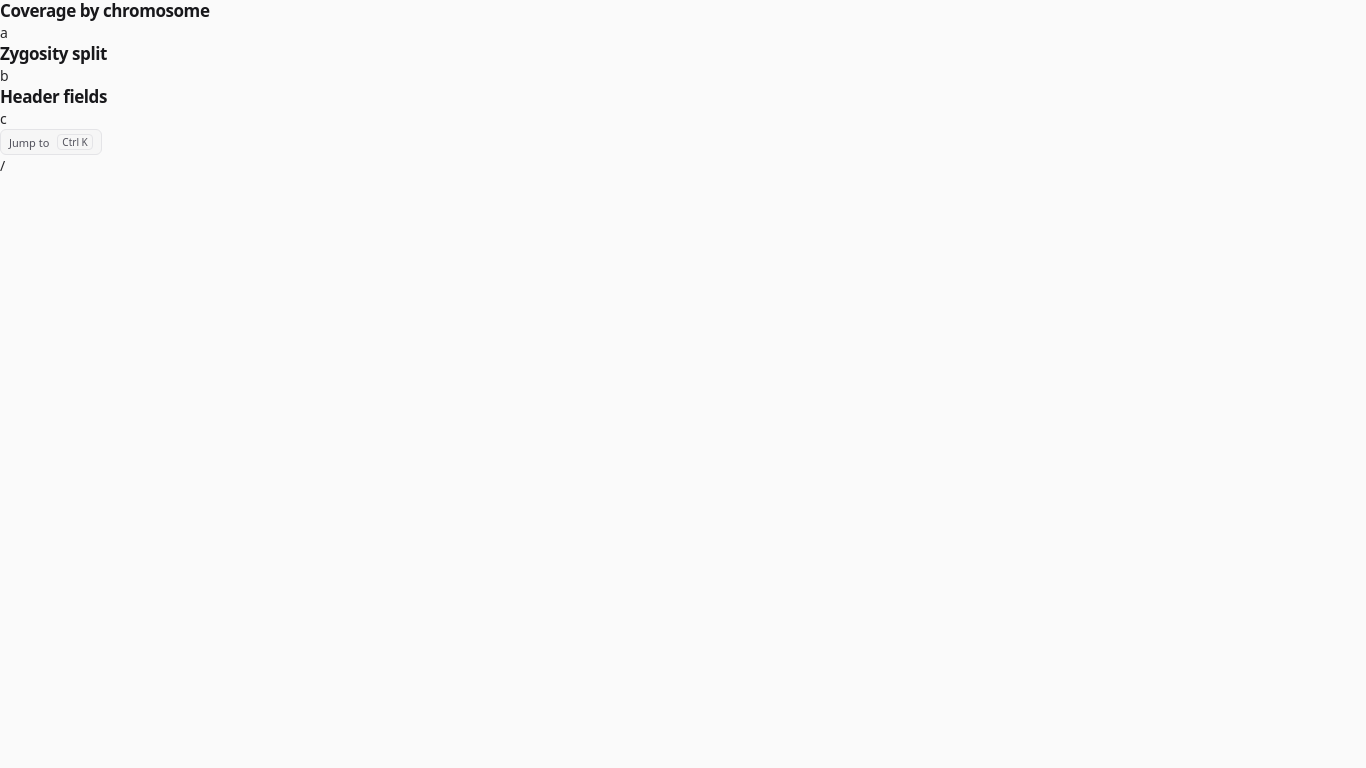
Test: the ⌘K palette › says so when nothing matches, rather than showing an empty box
The width and height of the screenshot is (1366, 768).
Press k
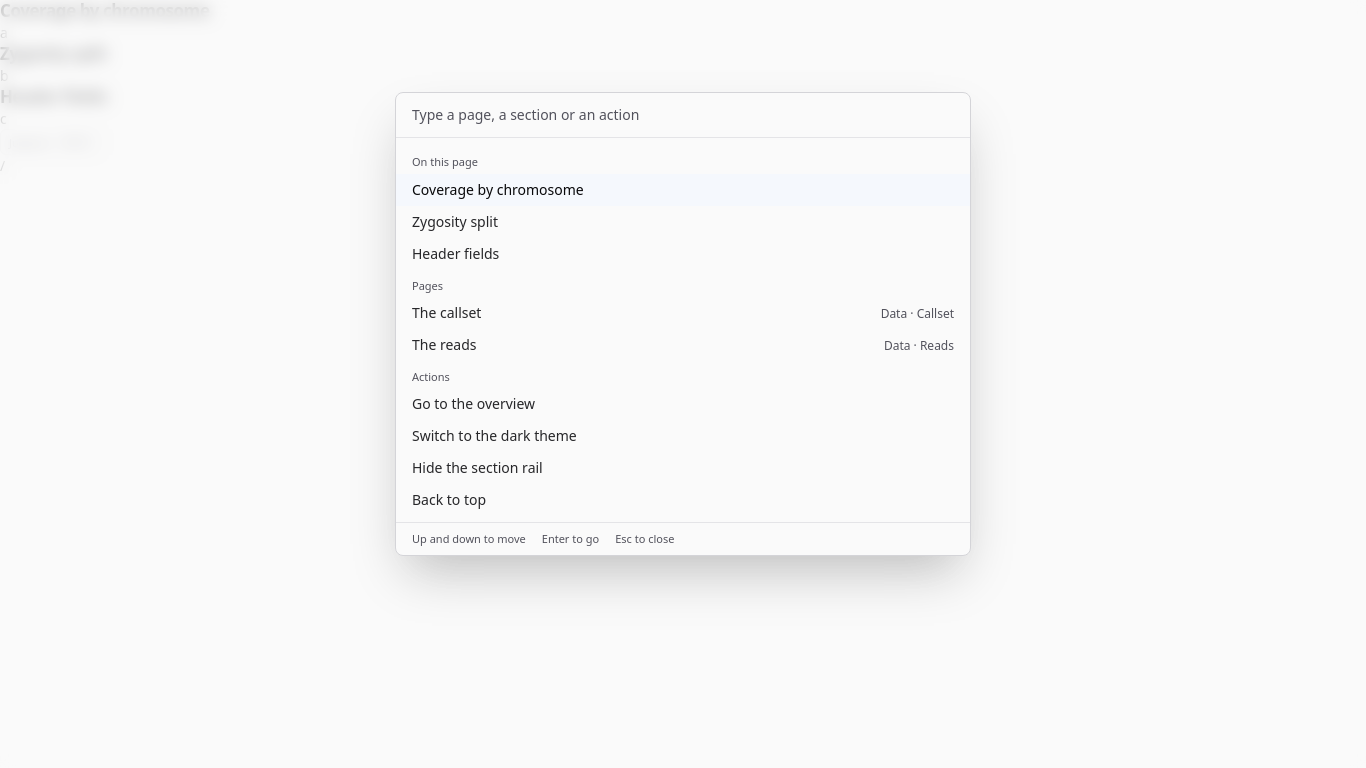
Type "chromothripsis" into the dropdown.
click(683, 116); type("chromothripsis")  # box [396,93,970,138]
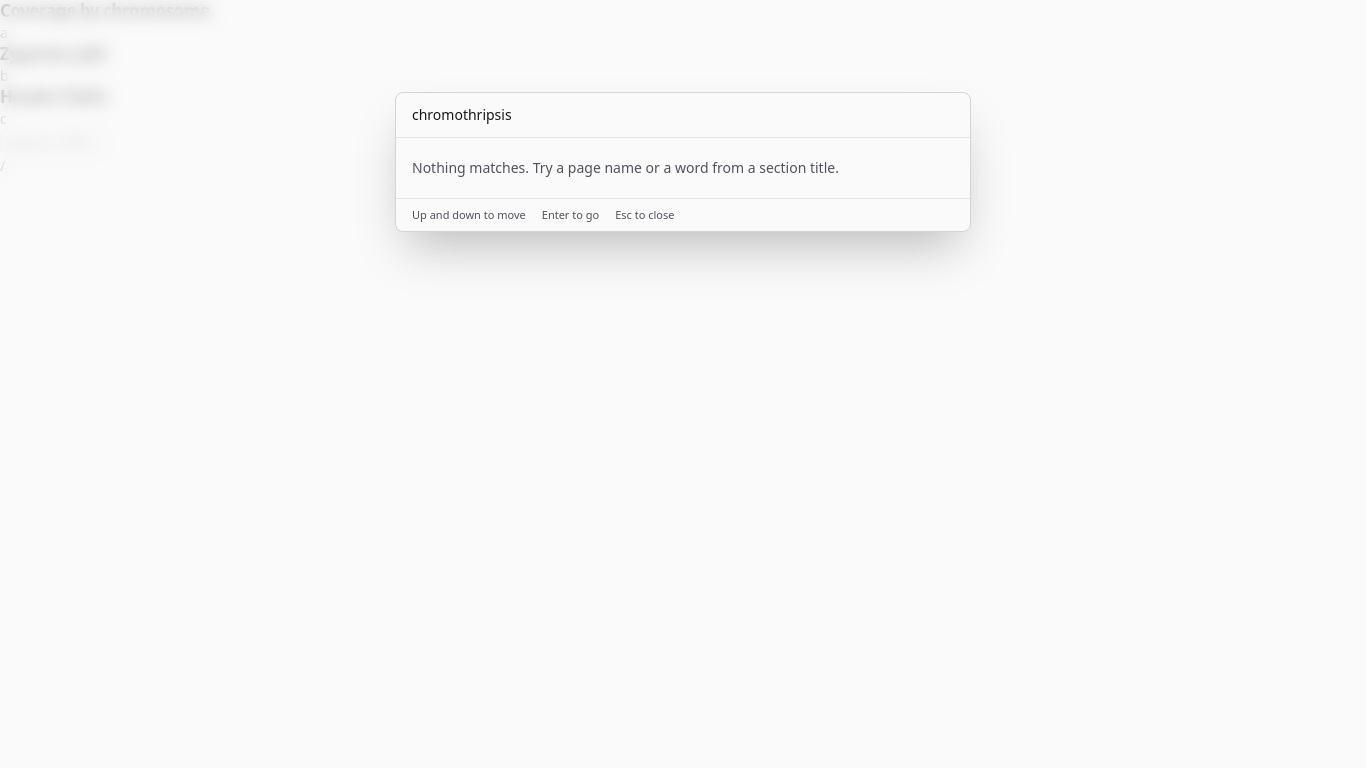
Check: no options are shown
Check: the dialog named "Jump to" shows "Nothing matches", box [412,158,839,177]
